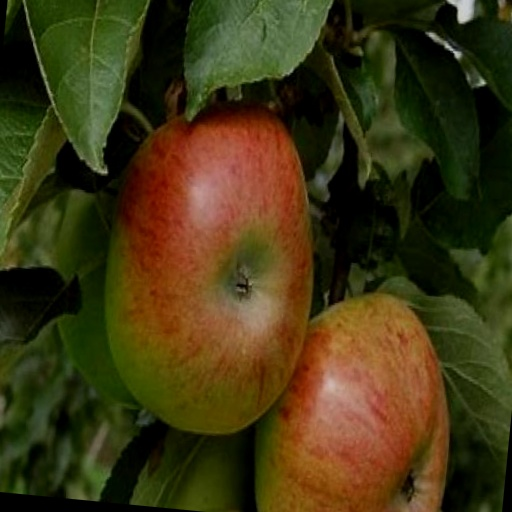fruit: (105, 105, 312, 434), (255, 294, 448, 512), (57, 191, 135, 405), (138, 428, 254, 512)
